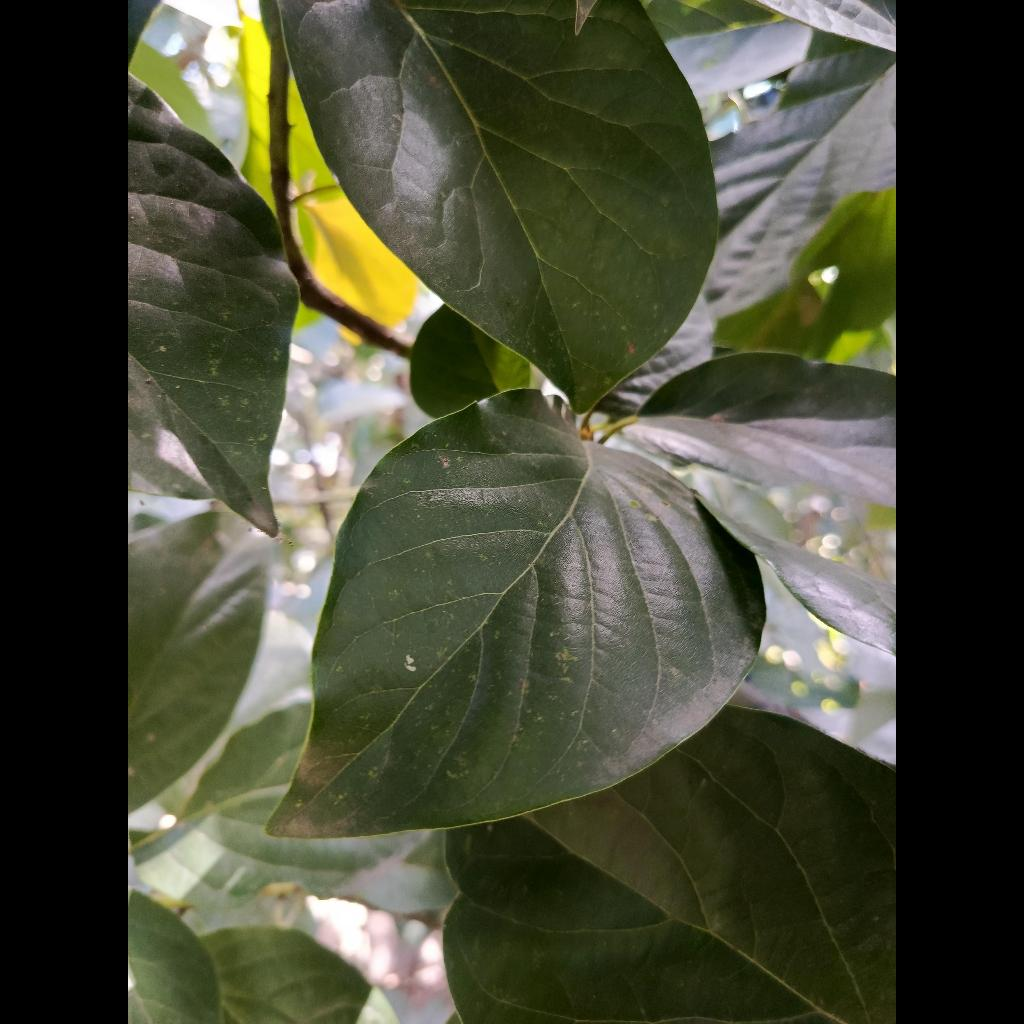Healthy: (267, 389, 764, 839), (281, 0, 717, 412)
